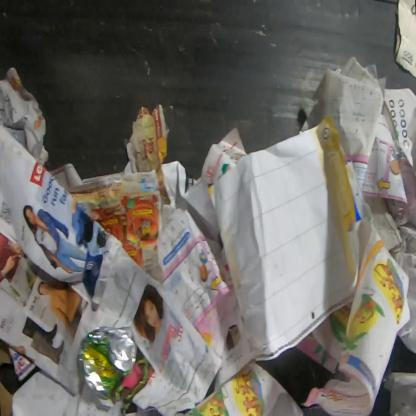cardboard: (393, 0, 415, 79), (0, 382, 14, 415), (0, 338, 14, 366)
metal: (77, 325, 138, 401)
